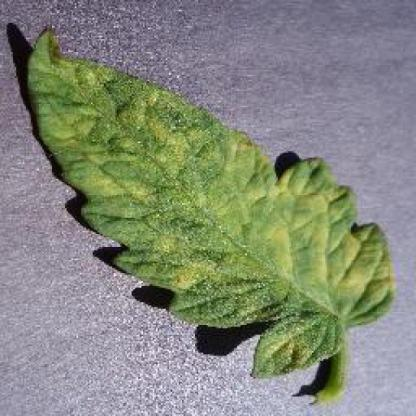Tomato_Leaf_Mold: (25, 27, 393, 375)
